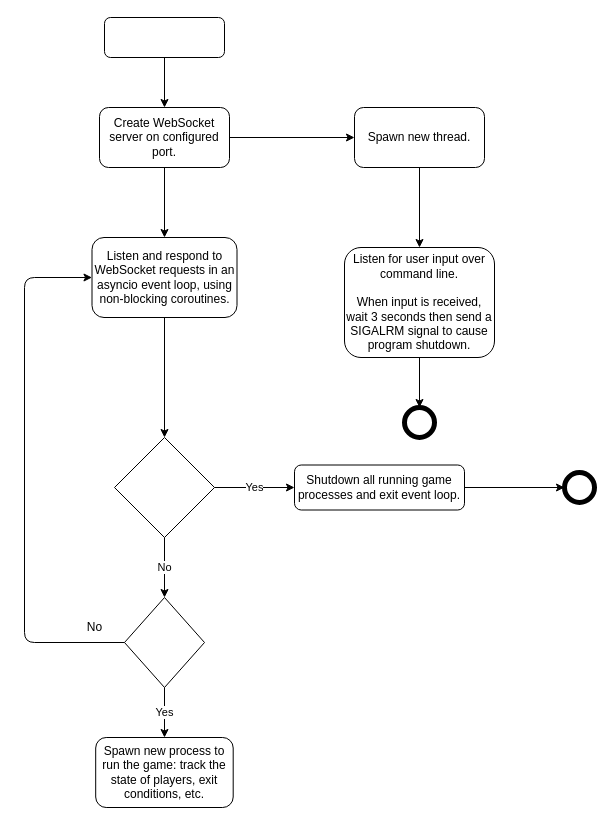
Some shapes in this 614 by 825 pixel diagram are drawn without their labels. The shapes that lost their labels are listed below. From the top down, each one's box as (x1, y1, x2, y2) in pixels, then its label:
(104, 16, 224, 58): Initialization
(114, 436, 214, 538): Shutdown SIGALRM signal received?
(124, 596, 204, 688): New game creation request?
